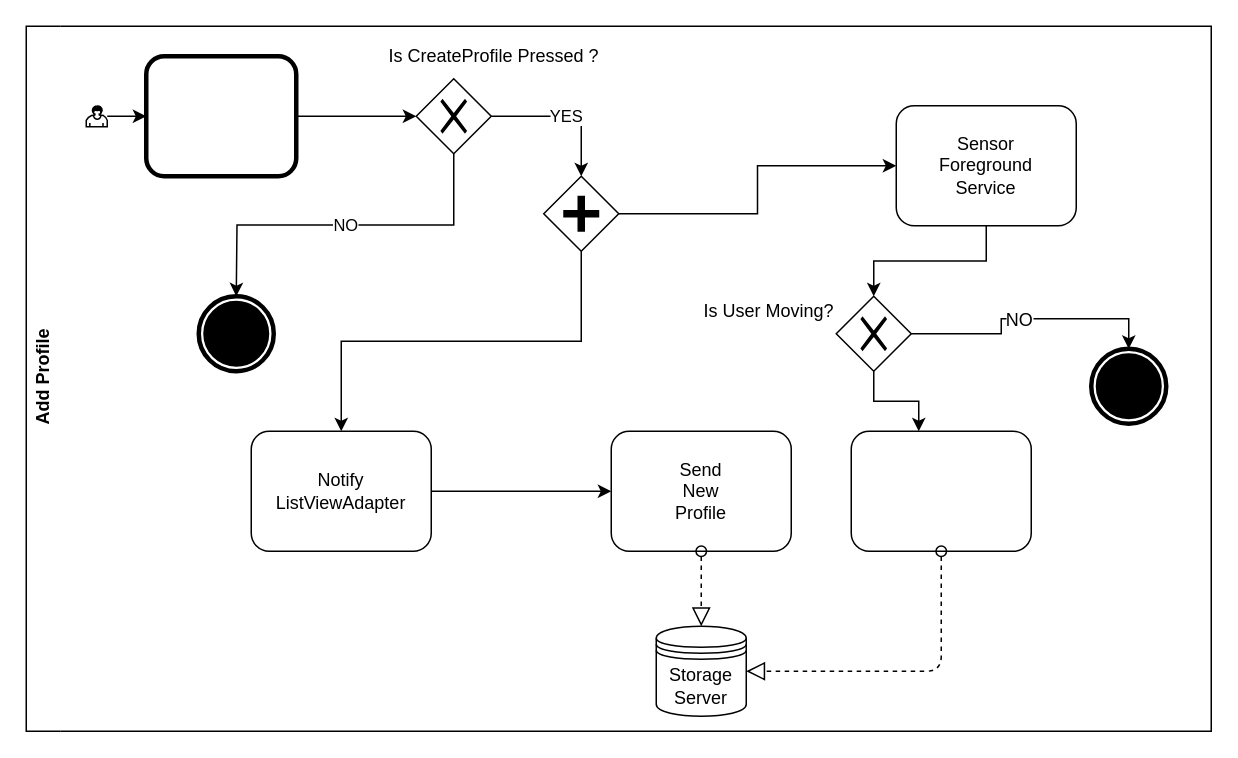
Image size: 1238x758. Some labels were removed from this diagram. The shapes that lost their labels are listed below. From the top down, each one's centre as x and y in pixels, then its label:
At [220,115]: "Profiles Fragment".
At [940,490]: "Upload CSV".
